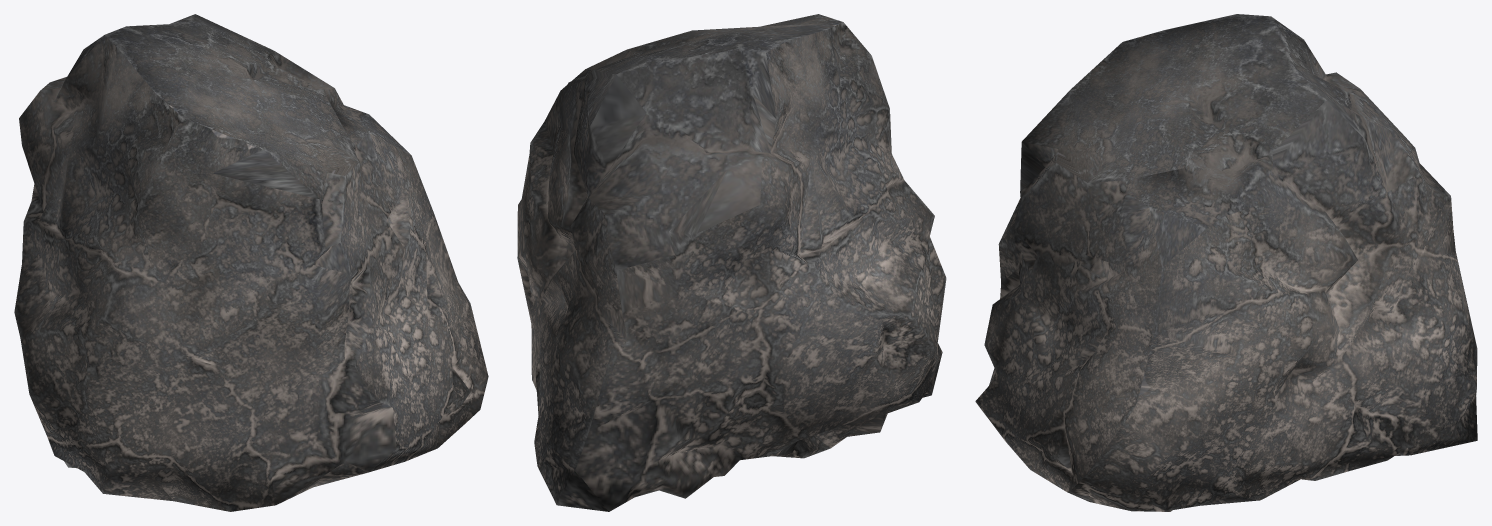
Rendered from Rock_big_01_GREY.fbx.
3 views of the same model, side by side, from view 1: azimuth 30°, elevation 25°; view 2: azimuth 150°, elevation 25°; view 3: azimuth 270°, elevation 25° (orthographic). The views are drawn at different scales.
Parts seen in each view (by area): view 1: Rock_big_01_GREY; view 2: Rock_big_01_GREY; view 3: Rock_big_01_GREY.
Boxes of the visible parts, x1,y1,x2,y2 form: Rock_big_01_GREY: (14,14,488,511); Rock_big_01_GREY: (517,14,946,511); Rock_big_01_GREY: (975,14,1477,511).
Bounding box in the file's own units: 0.9373 × 0.8658 × 1.02.
1 material, 1 textured.
